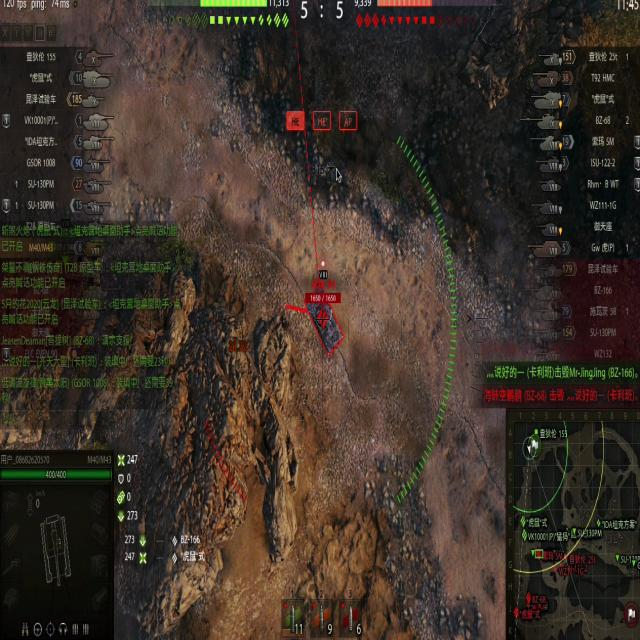tank: (282, 270, 354, 362)
